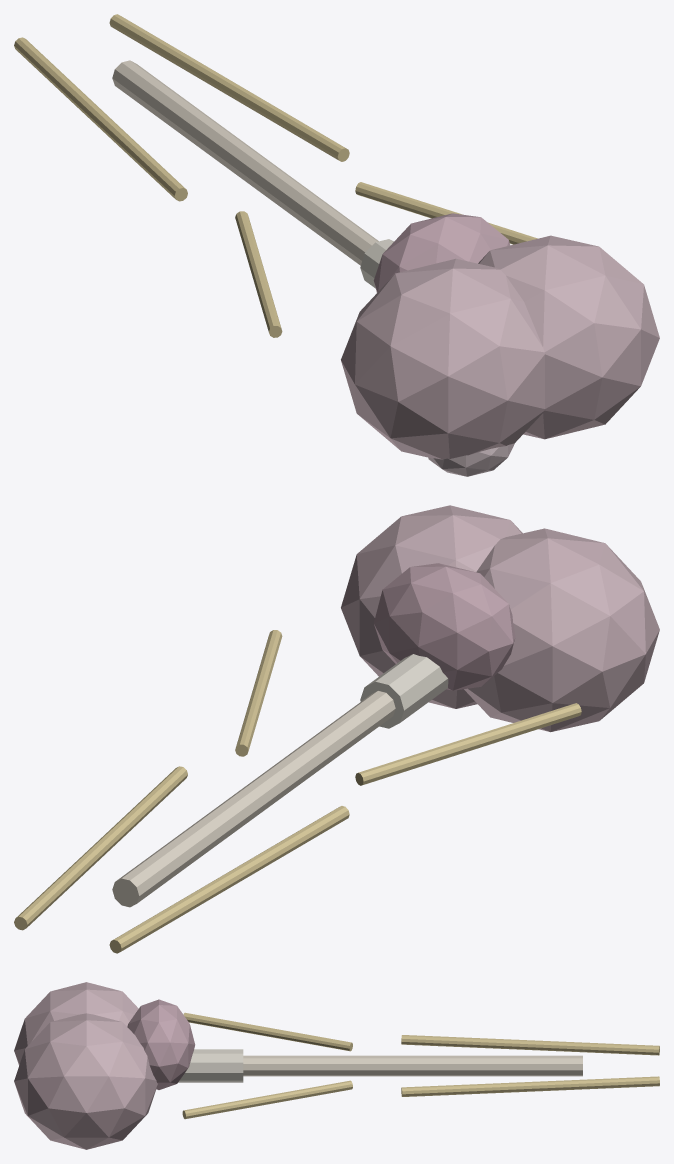
The model's file is nervous-g3-low.glb.
3 renders of one model, top to bottom at view 1: azimuth 30°, elevation 25°; view 2: azimuth 150°, elevation 25°; view 3: azimuth 270°, elevation 25°, orthographic. The views are drawn at different scales.
Parts seen in each view (by area): view 1: left_cerebral_hemisphere, right_cerebral_hemisphere, spinal_cord, cerebellum, right_sciatic_nerve, left_sciatic_nerve, left_brachial_nerve, right_brachial_nerve, left_frontal_lobe_proxy, brainstem_proxy; view 2: left_cerebral_hemisphere, cerebellum, right_cerebral_hemisphere, spinal_cord, left_sciatic_nerve, right_sciatic_nerve, left_brachial_nerve, brainstem_proxy, right_brachial_nerve; view 3: right_cerebral_hemisphere, spinal_cord, cerebellum, left_cerebral_hemisphere, right_sciatic_nerve, left_sciatic_nerve, brainstem_proxy, right_brachial_nerve, left_brachial_nerve.
Boxes of the visible parts, bbox=[...] form: left_cerebral_hemisphere: bbox=[341, 258, 544, 459]; right_cerebral_hemisphere: bbox=[478, 235, 659, 439]; spinal_cord: bbox=[112, 60, 378, 265]; cerebellum: bbox=[373, 213, 509, 292]; right_sciatic_nerve: bbox=[109, 14, 349, 161]; left_sciatic_nerve: bbox=[14, 37, 187, 201]; left_brachial_nerve: bbox=[235, 211, 282, 337]; right_brachial_nerve: bbox=[355, 182, 537, 244]; left_frontal_lobe_proxy: bbox=[428, 443, 514, 476]; brainstem_proxy: bbox=[360, 239, 393, 288]; left_cerebral_hemisphere: bbox=[464, 528, 659, 732]; cerebellum: bbox=[373, 563, 515, 690]; right_cerebral_hemisphere: bbox=[341, 505, 522, 708]; spinal_cord: bbox=[112, 691, 395, 907]; left_sciatic_nerve: bbox=[109, 806, 349, 953]; right_sciatic_nerve: bbox=[14, 766, 187, 930]; left_brachial_nerve: bbox=[355, 703, 581, 785]; brainstem_proxy: bbox=[360, 654, 448, 728]; right_brachial_nerve: bbox=[235, 630, 282, 756]; right_cerebral_hemisphere: bbox=[14, 1013, 157, 1149]; spinal_cord: bbox=[243, 1055, 582, 1076]; cerebellum: bbox=[127, 999, 195, 1089]; left_cerebral_hemisphere: bbox=[14, 982, 138, 1065]; right_sciatic_nerve: bbox=[401, 1076, 659, 1096]; left_sciatic_nerve: bbox=[401, 1035, 659, 1055]; brainstem_proxy: bbox=[178, 1049, 243, 1082]; right_brachial_nerve: bbox=[182, 1080, 352, 1119]; left_brachial_nerve: bbox=[183, 1012, 352, 1051].
Size of the model in its own units: 1.85 by 1.08 by 4.99.
